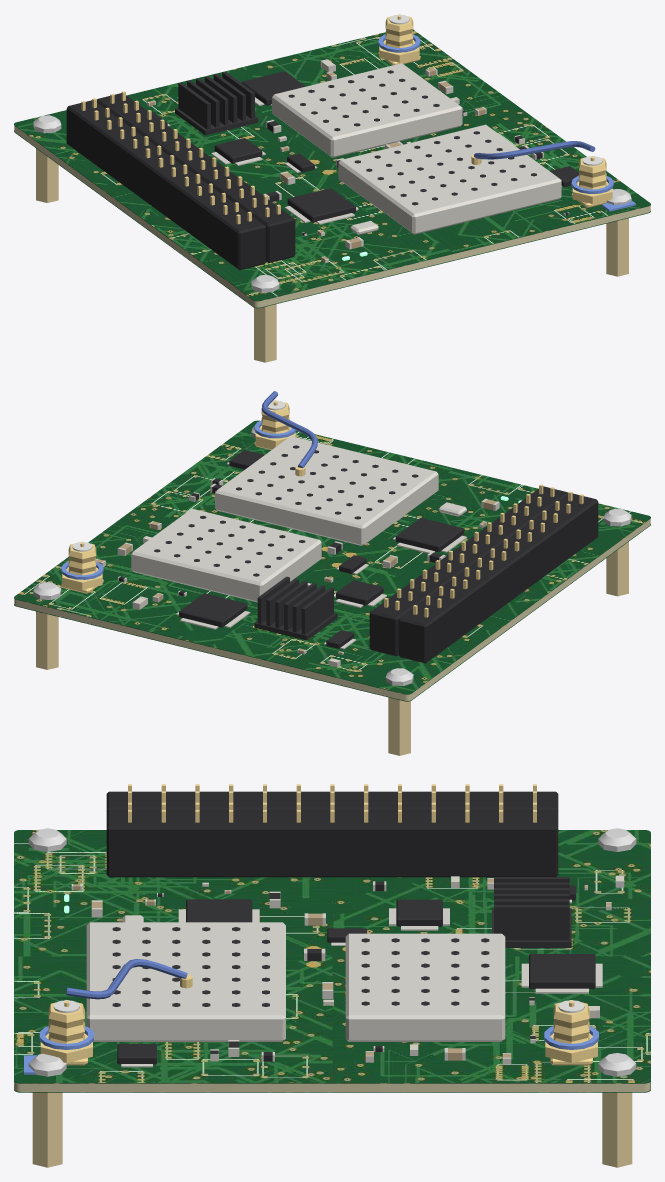
The model's file is transceiver_board.glb.
The picture shows the model from 3 angles, top to bottom: view 1: azimuth 30°, elevation 25°; view 2: azimuth 150°, elevation 25°; view 3: azimuth 270°, elevation 25°; orthographic projection. The views are drawn at different scales.
Visible parts, largest first — view 1: transceiver_board; view 2: transceiver_board; view 3: transceiver_board.
Part boxes in pixels (left/top/right/bottom): transceiver_board: left=14, top=14, right=650, bottom=362; transceiver_board: left=14, top=391, right=650, bottom=755; transceiver_board: left=14, top=784, right=650, bottom=1167.
Size of the model in its own units: 0.0902 by 0.0268 by 0.0959.
Materials: 15 (1 with a texture image).
